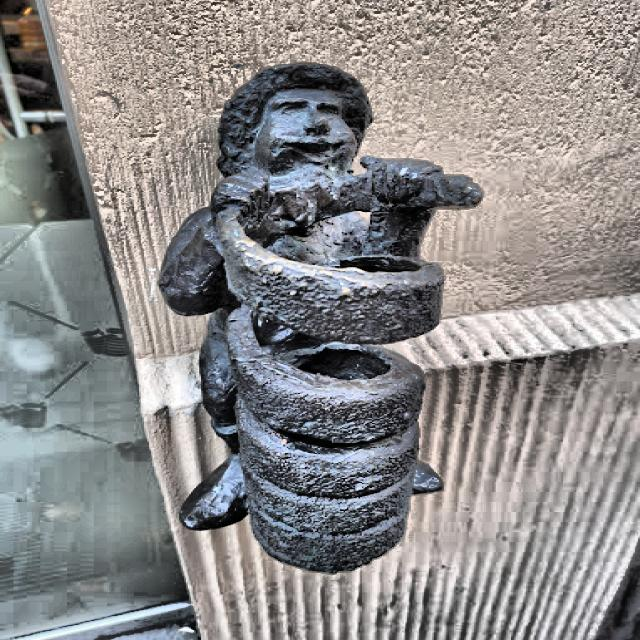Czimnejek: (151, 58, 490, 575)
